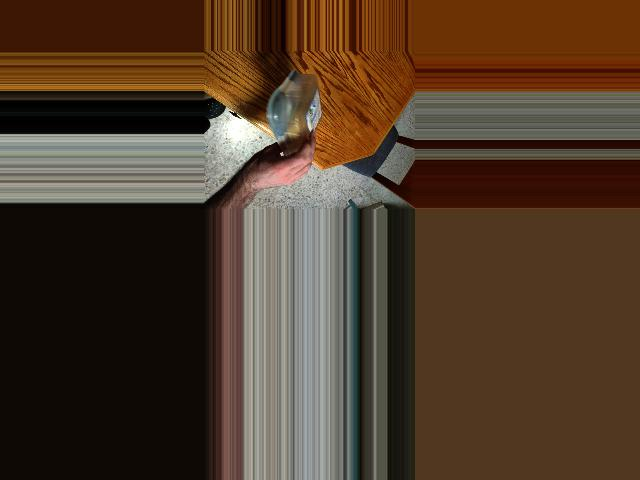cheese: (270, 69, 323, 172)
